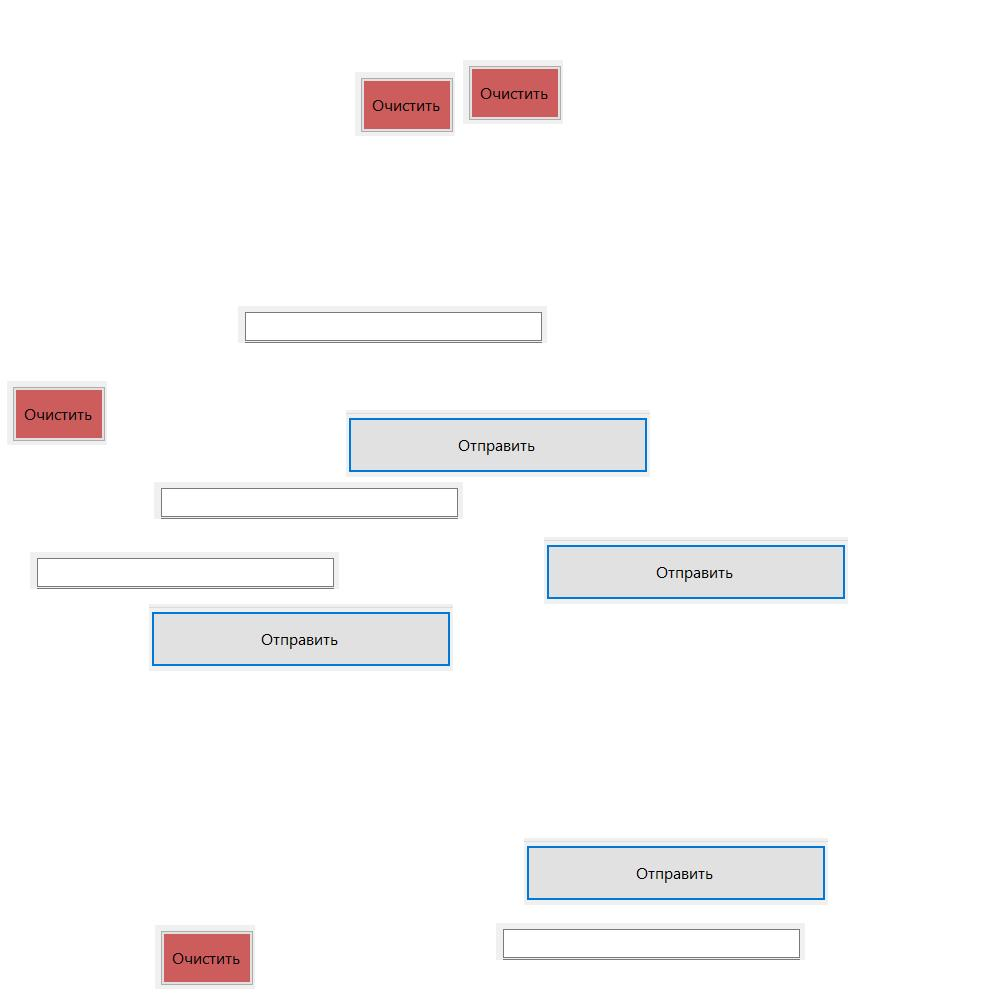Button: (346, 410, 650, 477), (544, 537, 848, 604), (149, 604, 453, 671), (524, 838, 828, 905), (463, 60, 563, 124), (155, 925, 255, 989), (355, 72, 455, 136), (7, 381, 107, 445)
EditText-: (30, 552, 339, 589), (154, 482, 463, 519), (238, 306, 547, 343), (496, 923, 805, 960)
